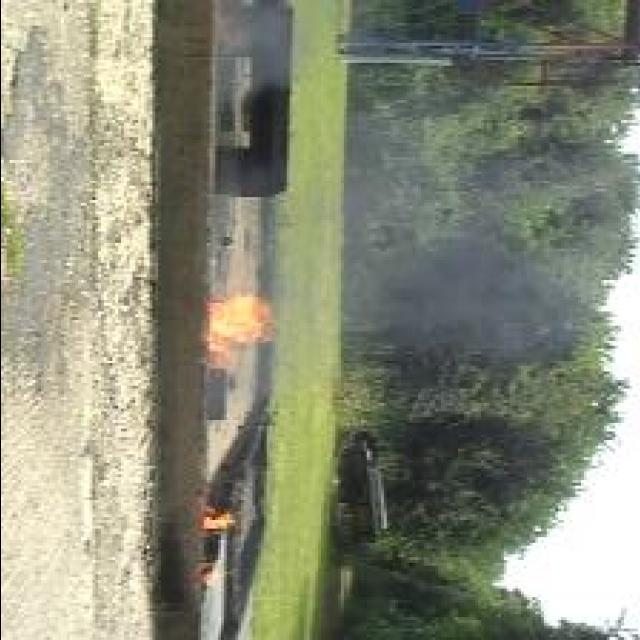Fire: (208, 293, 272, 370), (203, 508, 237, 534)
